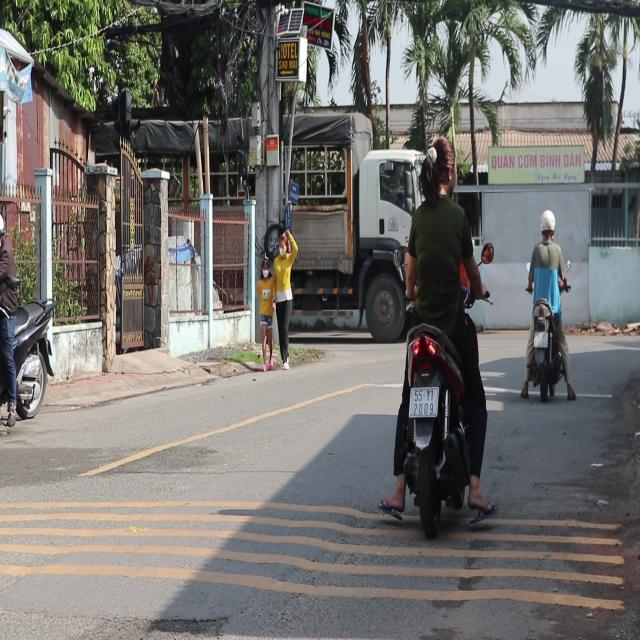licenseplate: (387, 123, 492, 532)
motorcyclist: (419, 133, 456, 200)
nohelmet: (409, 388, 438, 417)
